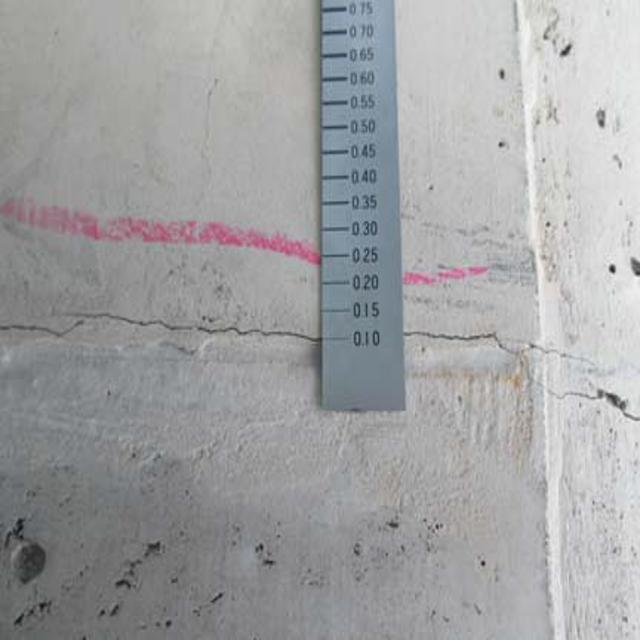crack: (394, 293, 636, 437), (5, 296, 308, 366)
